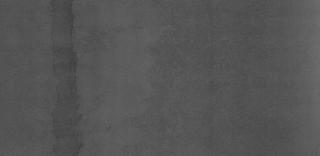water spot: (46, 2, 96, 152)
